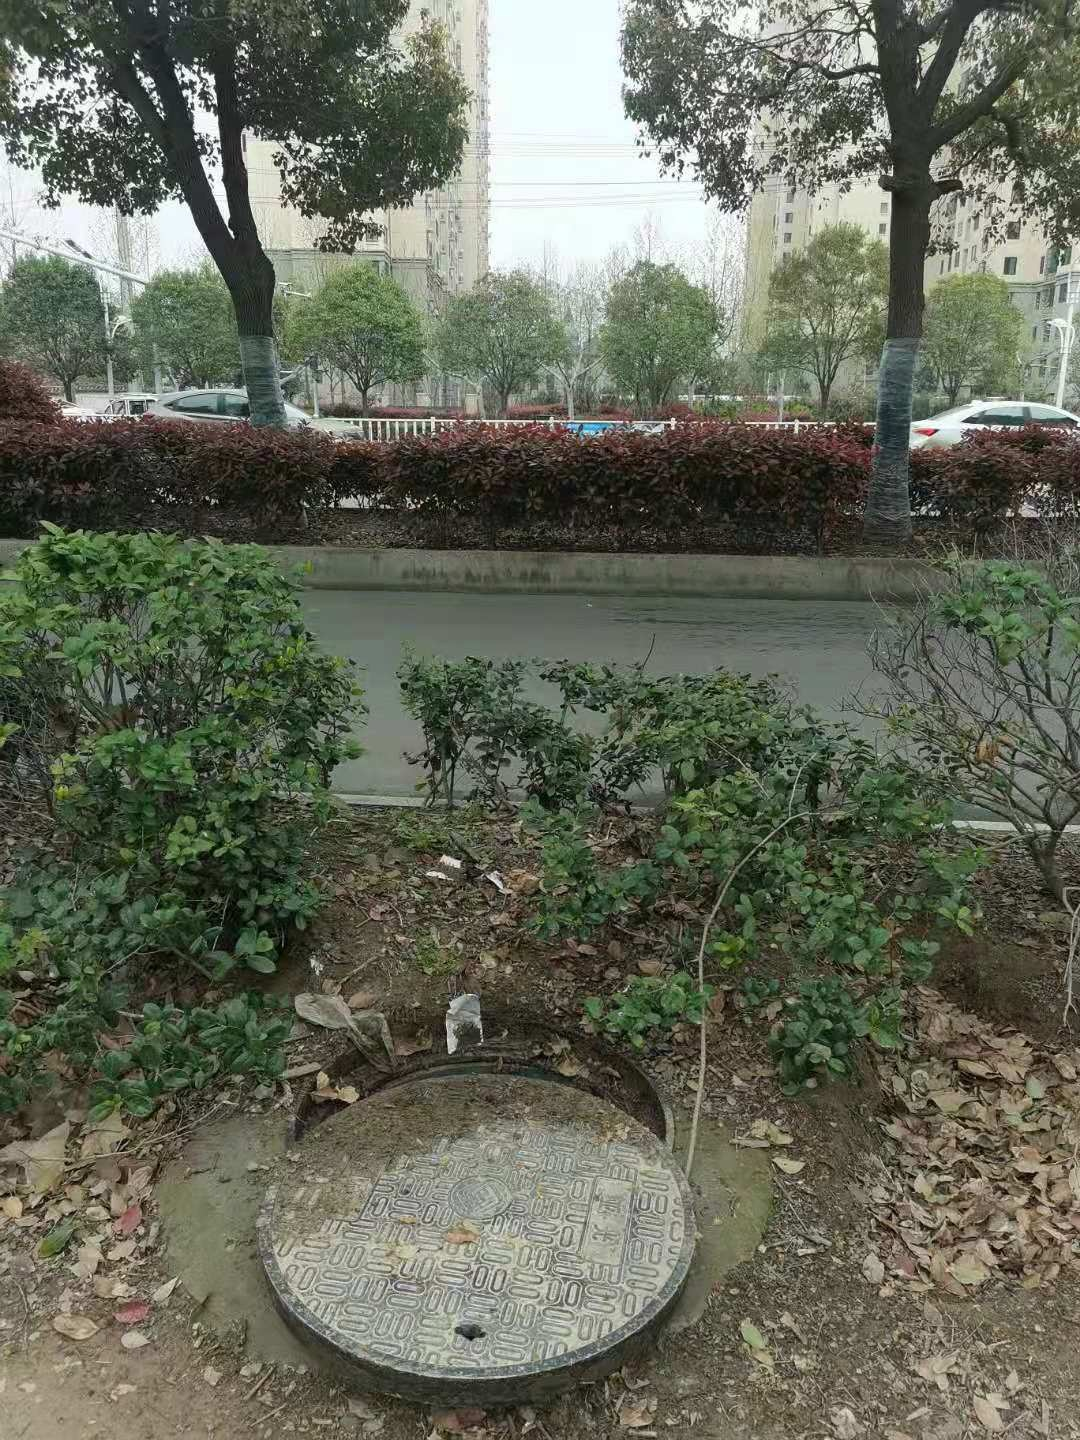uncovered: (252, 1013, 704, 1391)
